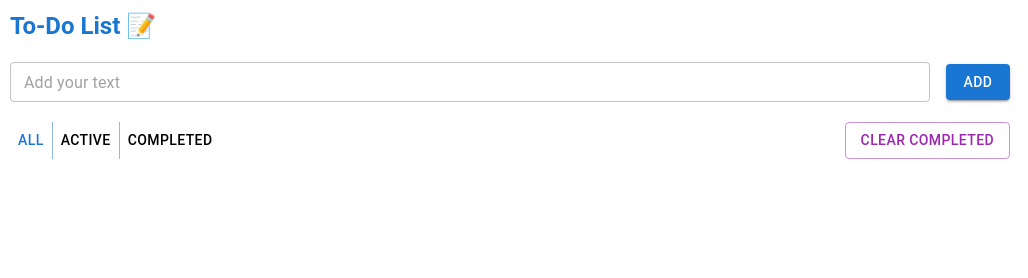
Test: HomePage › clears completed tasks
Type "Active Task" into the field with placeholder "Add your text".
click(470, 82); type("Active Task")  # box [10, 62, 930, 102]
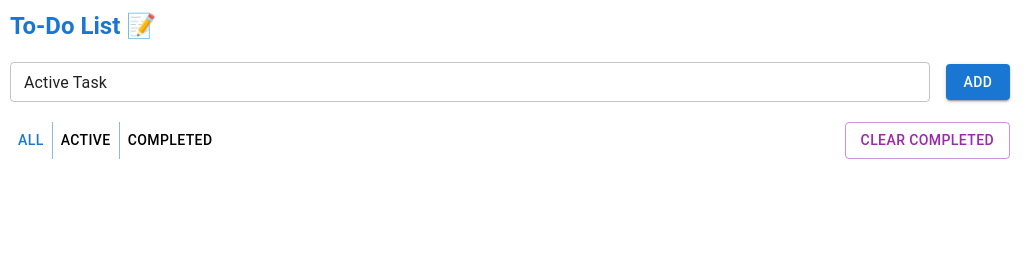
Click the button "Add".
click(978, 82)  # box [946, 64, 1010, 100]
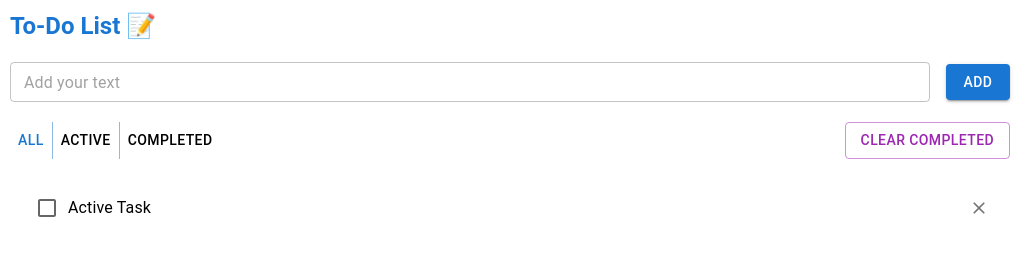
Type "Completed Task" into the field with placeholder "Add your text".
click(470, 82); type("Completed Task")  # box [10, 62, 930, 102]
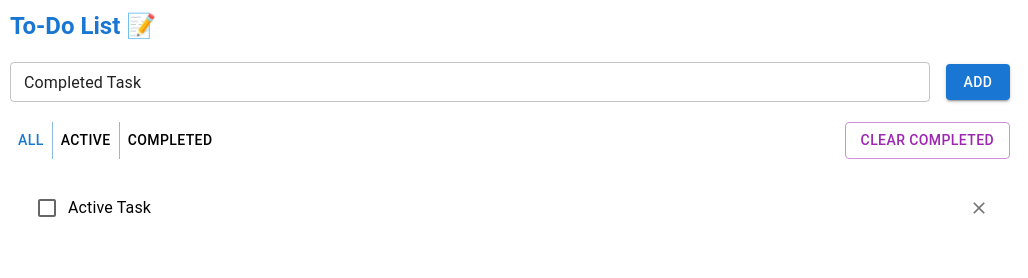
Click the button "Add".
click(978, 82)  # box [946, 64, 1010, 100]
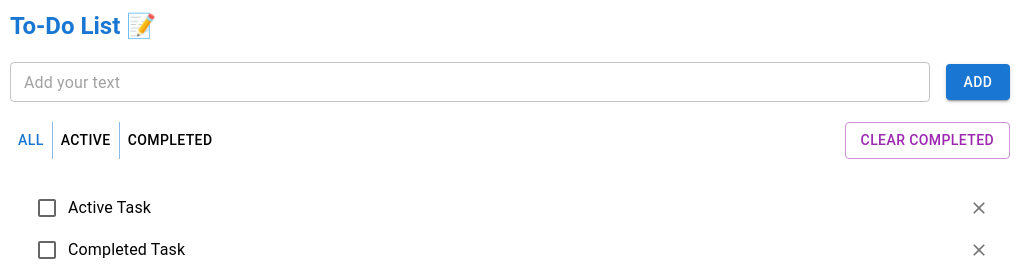
Click the checkbox next to "Completed Task".
click(47, 250)  # box [35, 238, 59, 262]
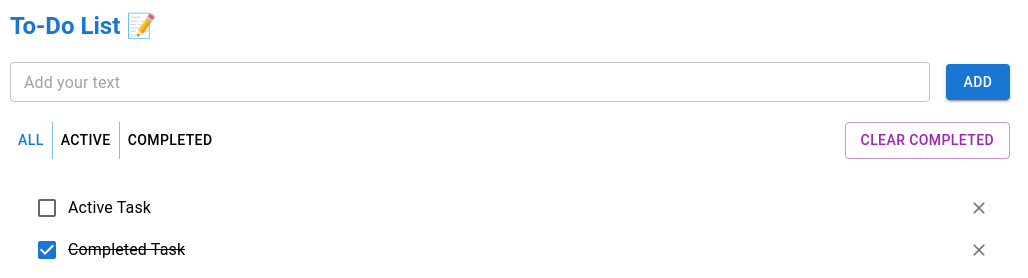
Click the button "Clear Completed".
click(927, 140)  # box [845, 122, 1010, 158]
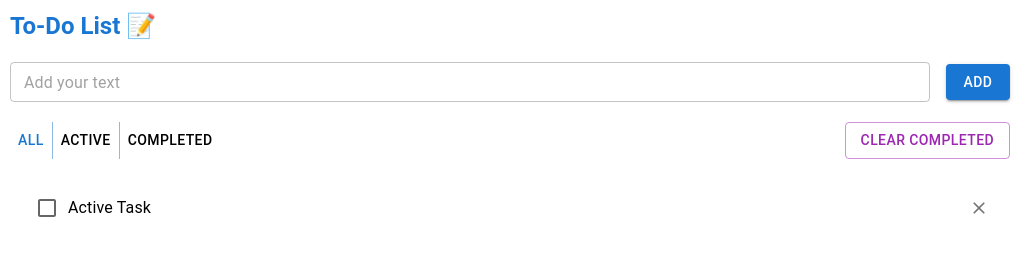
Expected: the text "Active Task" is shown, [68, 196, 151, 220]
Expected: the text "Completed Task" is gone
